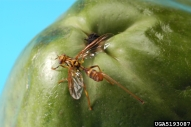Fruit fly: (45, 47, 146, 113)
